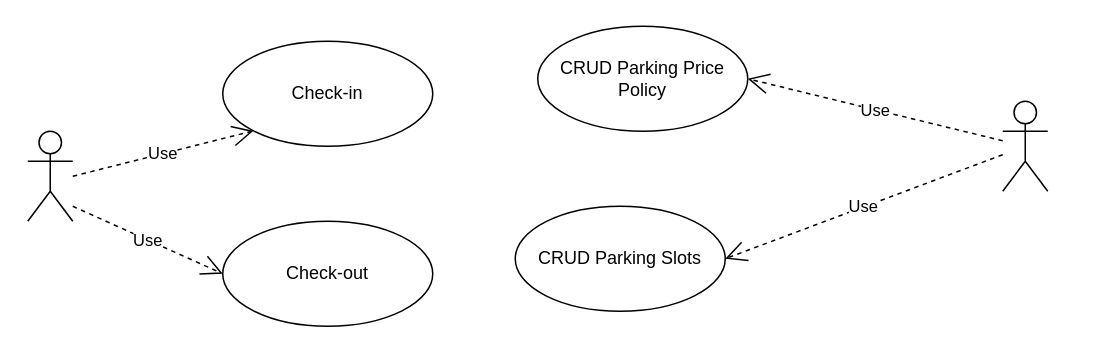
This 1109x353 diagram has some shape labels left out. Each missing label, with the box of its shape:
Driver: (26, 130, 73, 221)
Parking Admin: (1001, 100, 1048, 191)
